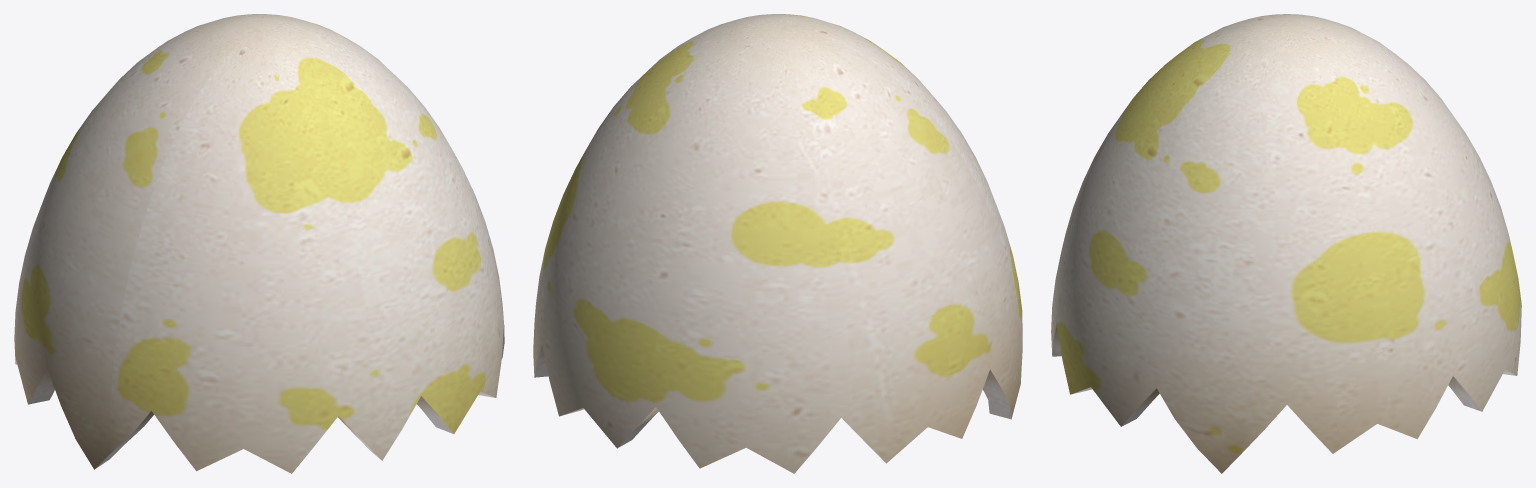
Rendered from Egg_ShallB.fbx.
3 renders of one model, left to right at view 1: azimuth 30°, elevation 25°; view 2: azimuth 150°, elevation 25°; view 3: azimuth 270°, elevation 25°, orthographic. The views are drawn at different scales.
Parts seen in each view (by area): view 1: Egg_ShallB; view 2: Egg_ShallB; view 3: Egg_ShallB.
Part boxes in pixels (box(x1,y1,x2,y2)): Egg_ShallB: box(14, 14, 504, 473); Egg_ShallB: box(533, 14, 1022, 473); Egg_ShallB: box(1051, 14, 1521, 473).
Bounding box in the file's own units: 64.17 × 53.29 × 64.32.
